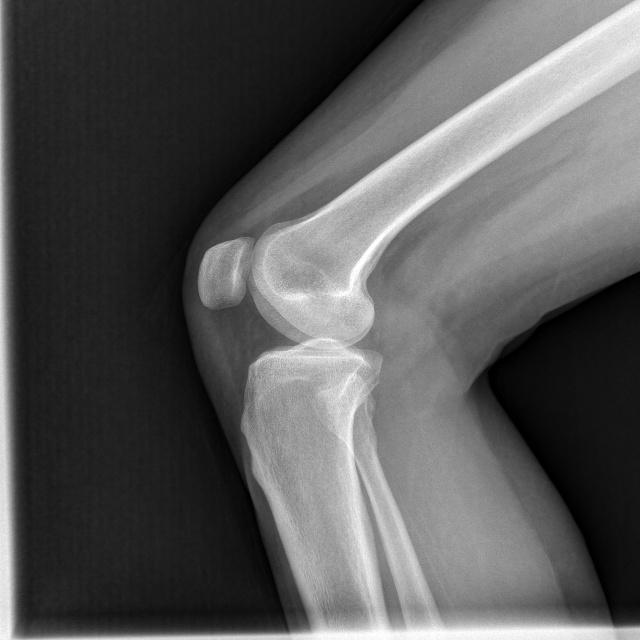Knee: (196, 230, 384, 431)
